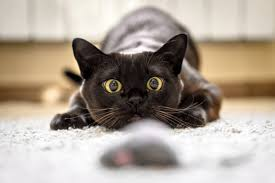cat: (49, 9, 222, 129)
